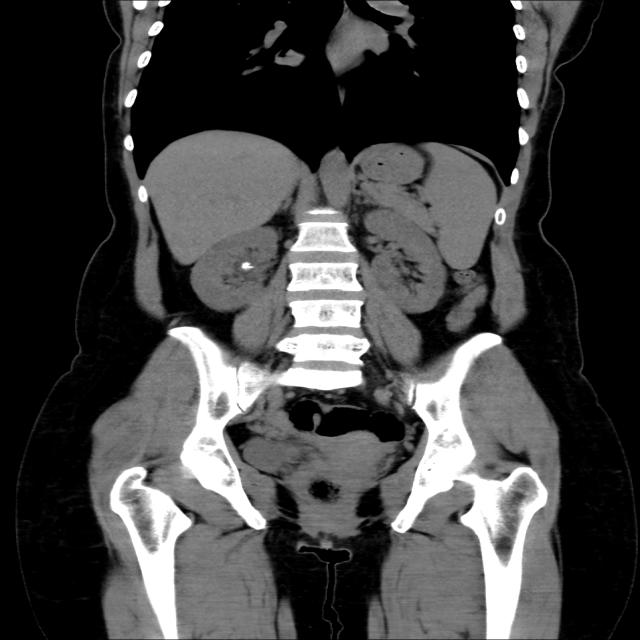kidneystone: (241, 261, 253, 271)
